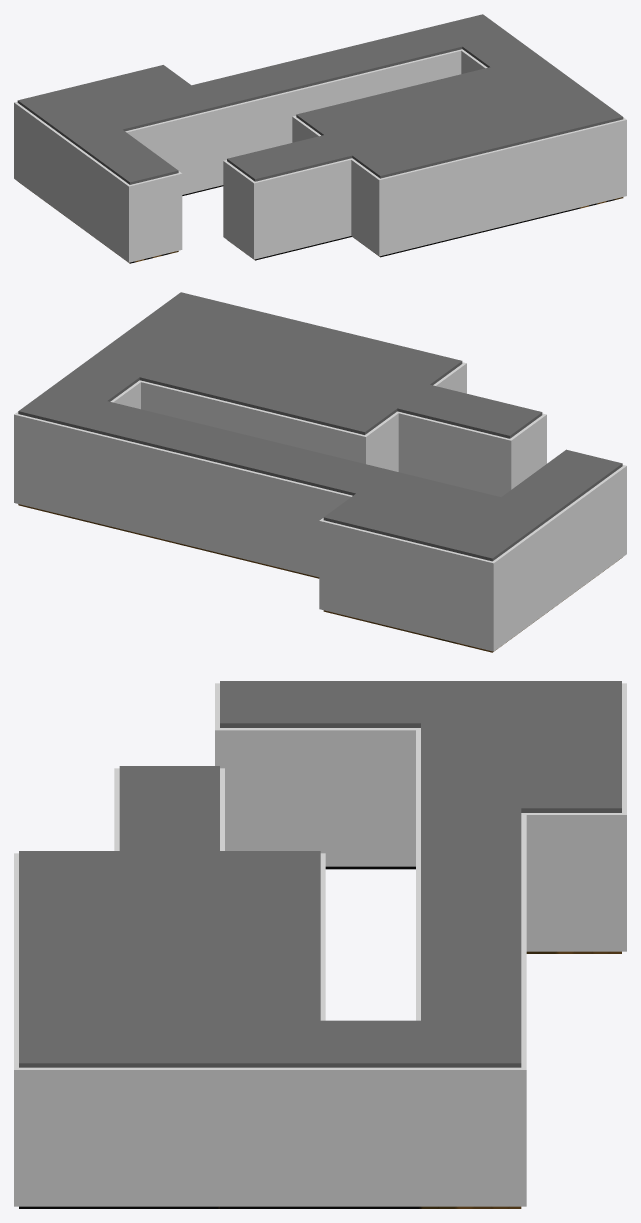
File: StageCol.fbx
3 views of the same model, one above another, from view 1: azimuth 30°, elevation 25°; view 2: azimuth 150°, elevation 25°; view 3: azimuth 270°, elevation 25° (orthographic). The views are drawn at different scales.
Visible parts, largest first — view 1: 立方体.007, Ceiling, Floor; view 2: 立方体.007, Ceiling, Floor; view 3: Ceiling, 立方体.007, Floor.
Part boxes in pixels (<box>): 立方体.007: <box>14,49,626,262</box>; Ceiling: <box>17,14,623,184</box>; Floor: <box>19,182,623,263</box>; 立方体.007: <box>14,362,626,651</box>; Ceiling: <box>18,292,622,561</box>; Floor: <box>18,504,622,652</box>; Ceiling: <box>19,681,621,1067</box>; 立方体.007: <box>14,683,626,1206</box>; Floor: <box>19,866,621,1208</box>.
Size of the model in its own units: 1820 by 320 by 1220.
2 materials, 1 textured.
